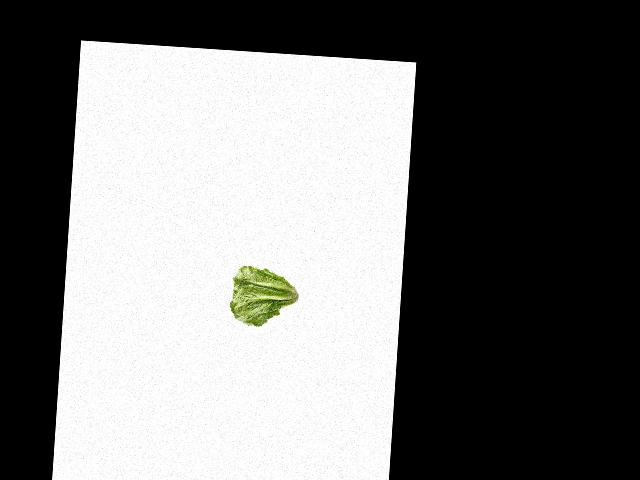lettuce: (227, 267, 303, 331)
